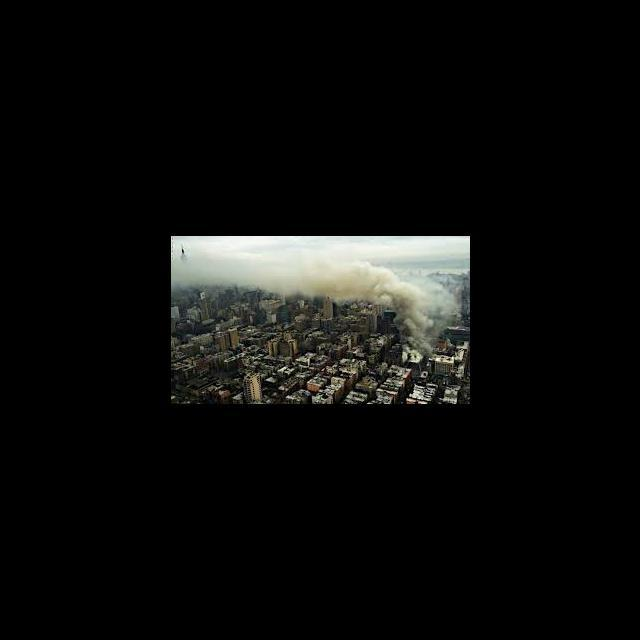Smoke: (173, 252, 436, 356)
